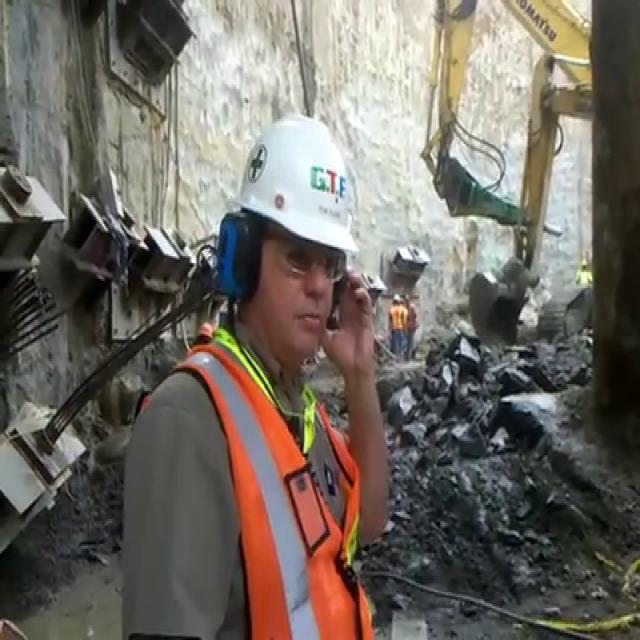earmuff: (214, 204, 264, 304)
glasses: (281, 237, 354, 289)
helmet: (239, 106, 359, 255)
